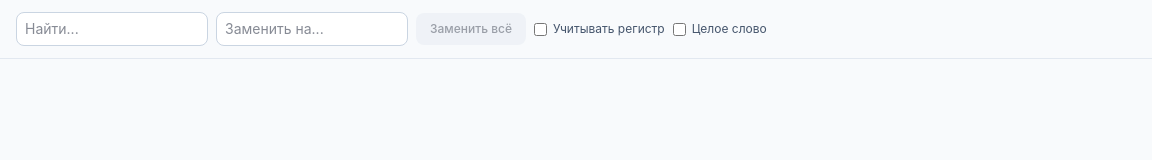
Test: FindReplacePanel › lists matches across the title, text, and a choice as the user types
In the field labelled "Найти": (112, 29) 16,12 -> 208,46, type "волк"
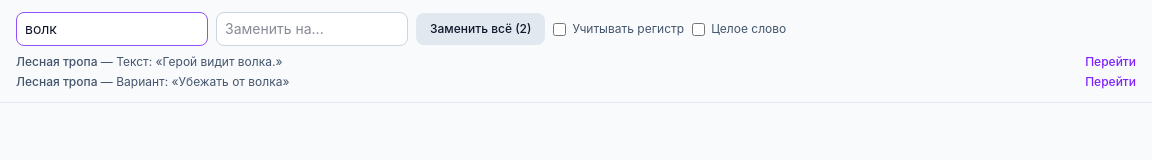
Check: the button "Заменить всё (2)" is shown, box 416,13 -> 545,45
Check: the text "Лесная тропа — Текст: «Герой видит волка.»" is shown, box 16,54 -> 282,70
Check: the text "Лесная тропа — Вариант: «Убежать от волка»" is shown, box 16,74 -> 290,90
